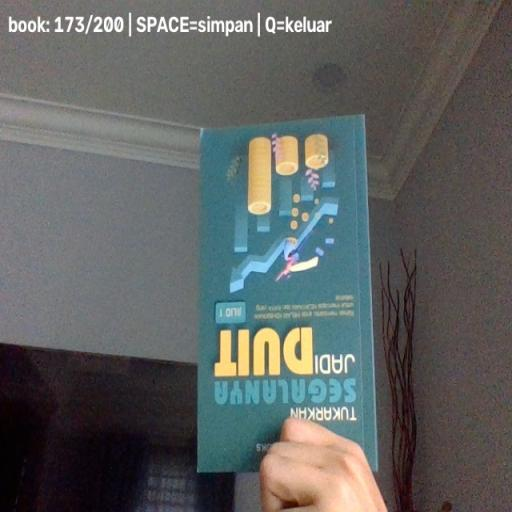Book: (195, 113, 380, 475)
